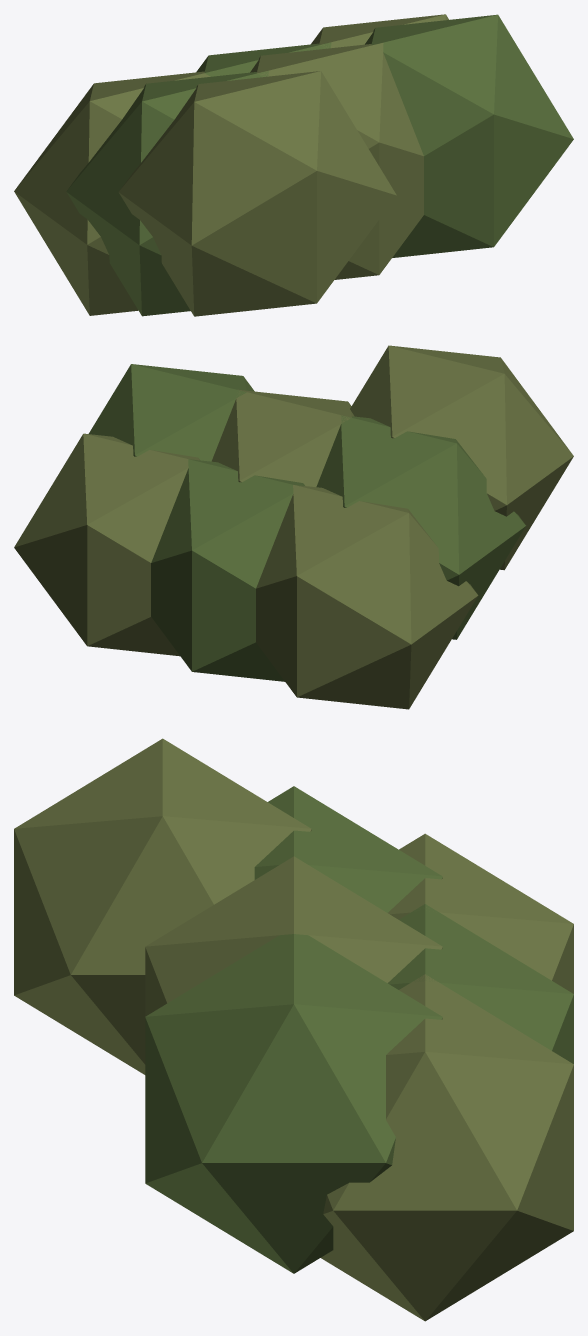
Rendered from custom-nature-bush.glb.
3 views of the same model, one above another, from view 1: azimuth 30°, elevation 25°; view 2: azimuth 150°, elevation 25°; view 3: azimuth 270°, elevation 25° (orthographic). The views are drawn at different scales.
Parts seen in each view (by area): view 1: custom-nature-bush; view 2: custom-nature-bush; view 3: custom-nature-bush.
Part boxes in pixels (<box>): custom-nature-bush: <box>14,14,573,316</box>; custom-nature-bush: <box>14,345,573,709</box>; custom-nature-bush: <box>14,738,573,1321</box>.
Bounding box in the file's own units: 1 × 0.639 × 0.8889.
